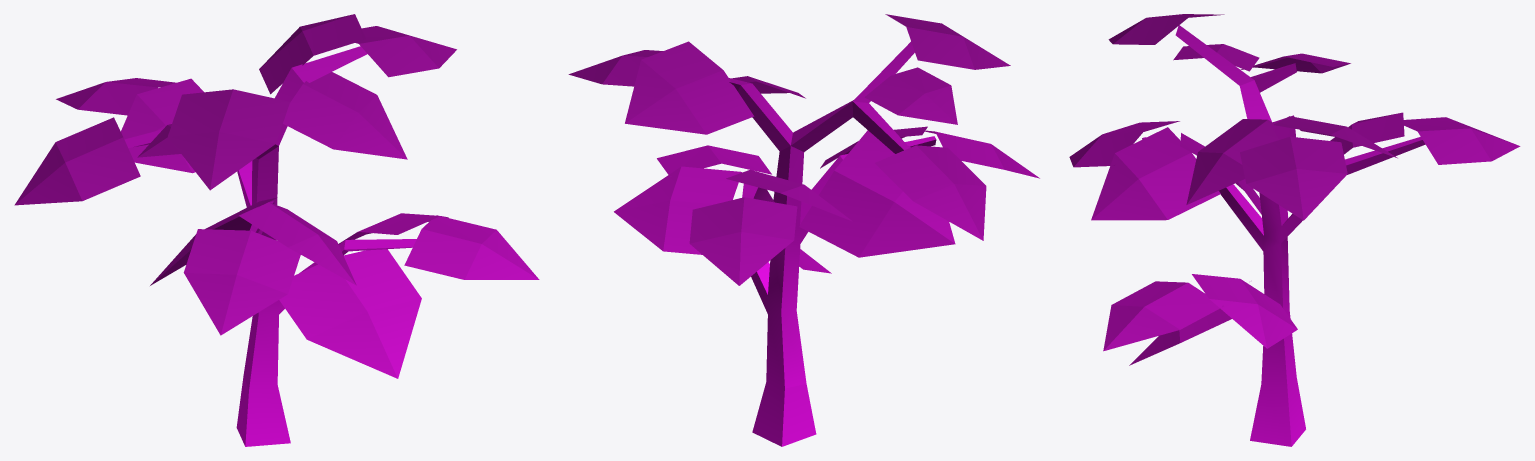
Rendered from SM_Prop_Plant_Bush_03_L.fbx.
3 views of the same model, side by side, from view 1: azimuth 30°, elevation 25°; view 2: azimuth 150°, elevation 25°; view 3: azimuth 270°, elevation 25° (orthographic). The views are drawn at different scales.
Parts seen in each view (by area): view 1: SM_Prop_Plant_Bush_03_L; view 2: SM_Prop_Plant_Bush_03_L; view 3: SM_Prop_Plant_Bush_03_L.
Boxes of the visible parts, x1,y1,x2,y2 form: SM_Prop_Plant_Bush_03_L: (14,14,539,446); SM_Prop_Plant_Bush_03_L: (568,14,1039,446); SM_Prop_Plant_Bush_03_L: (1069,14,1520,446).
Size of the model in its own units: 106 by 93.45 by 100.
